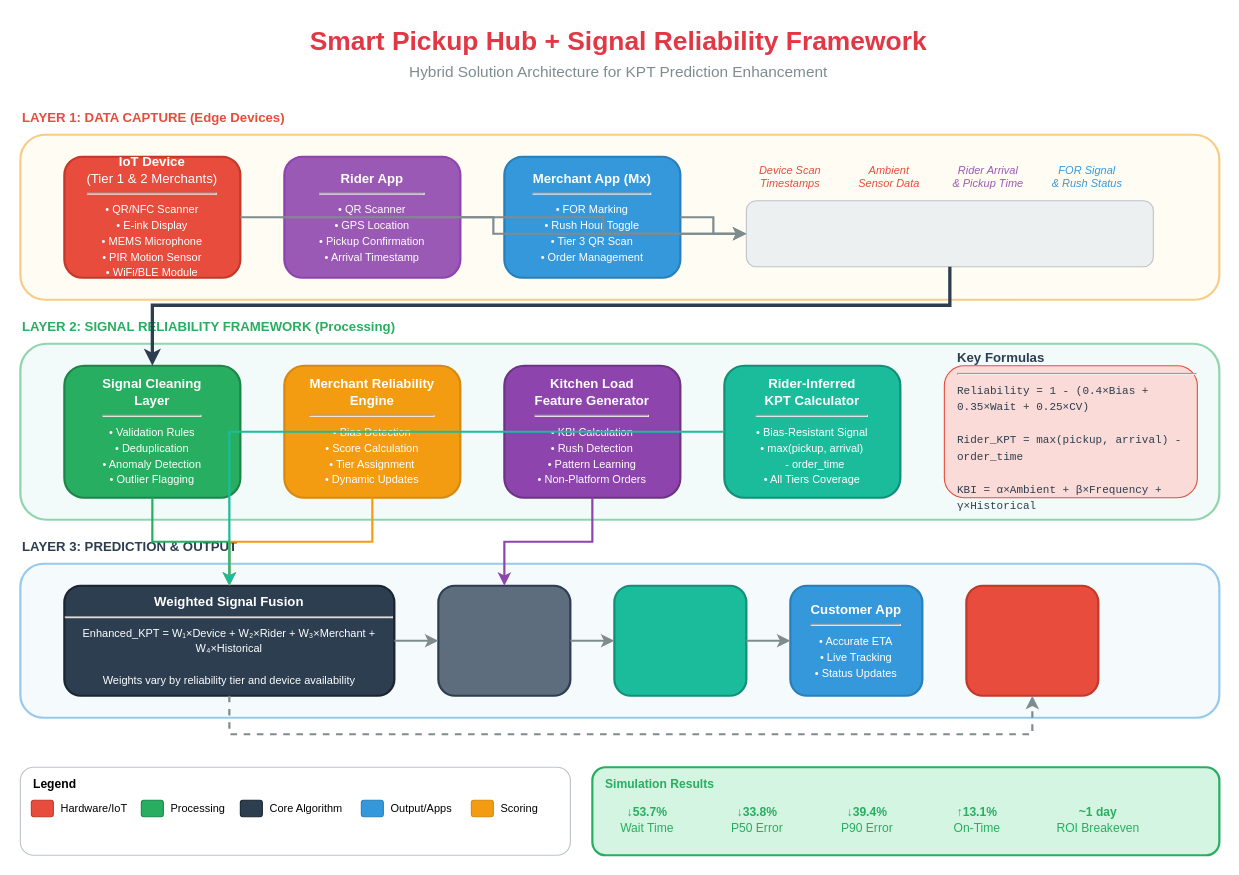
The diagram is 1239 pixels wide and 875 high, and some of its shapes have lost their labels. Here are the shapes that lost their labels. From the top down, the centre of each, then its label:
At pixel 949 233: "Data Signals".
At pixel 504 640: "Real-time Correction • KBI Adjustment • Rush Hour Factor • Live Updates".
At pixel 680 640: "ETA Engine • Rider Dispatch • Route Planning • Customer ETA".
At pixel 1032 640: "Analytics & Monitoring • Performance Metrics • Model Training • Dashboards".
